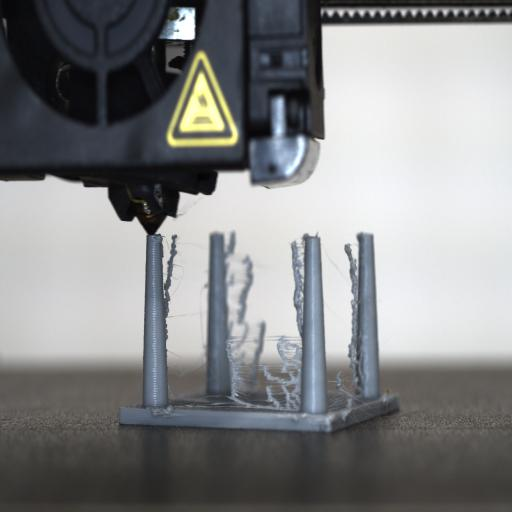stringing: (155, 226, 355, 410)
